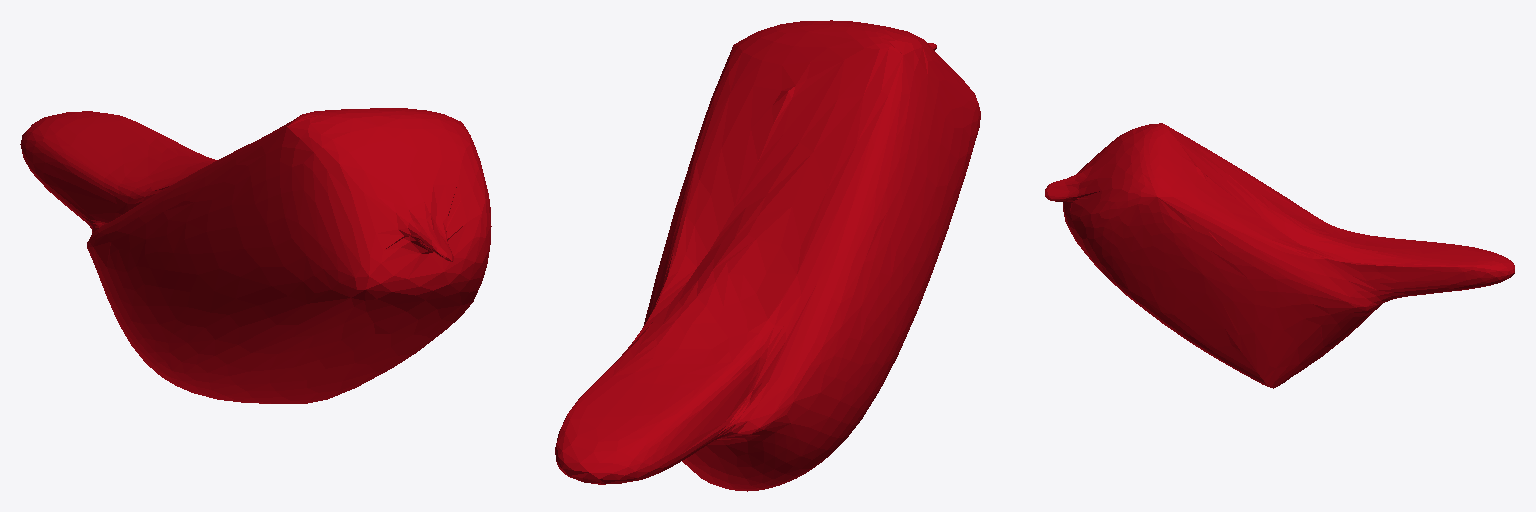
URDF robot description (blob434):

<robot name="blob434">
  <link name="random_obj_434">
    <contact>
      <lateral_friction value="1.0"/>
      <rolling_friction value="0.0"/>
      <inertia_scaling value="3.0"/>
      <contact_cfm value="0.0"/>
      <contact_erp value="1.0"/>
    </contact>
    <inertial>
      <origin rpy="0 0 0" xyz="0 0 0"/>
      <mass value="0.0720"/>
      <inertia ixx="1" ixy="0" ixz="0" iyy="1" iyz="0" izz="0"/>
    </inertial>
    <visual>
      <origin rpy="0 0 0" xyz="0 0 0"/>
      <geometry>
        <mesh filename="434.obj" scale="0.0081 0.0081 0.0081"/>
      </geometry>
      <material name="blockmat">
        <color rgba="0.70 0.06 0.12 1"/>
      </material>
    </visual>
    <collision>
      <origin rpy="0 0 0" xyz="0 0 0"/>
      <geometry>
        <mesh filename="434_coll.obj" scale="0.0081 0.0081 0.0081"/>
      </geometry>
    </collision>
  </link>
</robot>

--- What the picture shows (computed from the rendered views, not written in the file) ---
3 views of the same robot in one strip: view 1: azimuth 30°, elevation 25°; view 2: azimuth 150°, elevation 25°; view 3: azimuth 270°, elevation 25° (orthographic).
Model blob434 with 1 links and 0 joints (none), rooted at random_obj_434, posed all joints at 0.
Visible links, largest first — view 1: random_obj_434; view 2: random_obj_434; view 3: random_obj_434.
Link boxes in pixels (x1,y1,x2,y2): random_obj_434: [20, 108, 491, 403]; random_obj_434: [555, 20, 980, 491]; random_obj_434: [1045, 123, 1514, 388].
Size in the robot's own frame: 0.0493 by 0.1403 by 0.0774 metres.
1 mesh visuals loaded from 1 distinct referenced files (1 OBJ).
